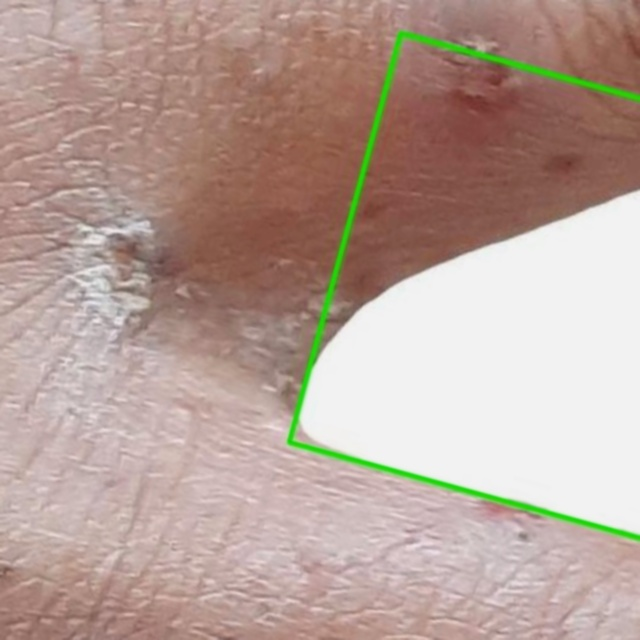Scabies: (289, 33, 639, 537)
